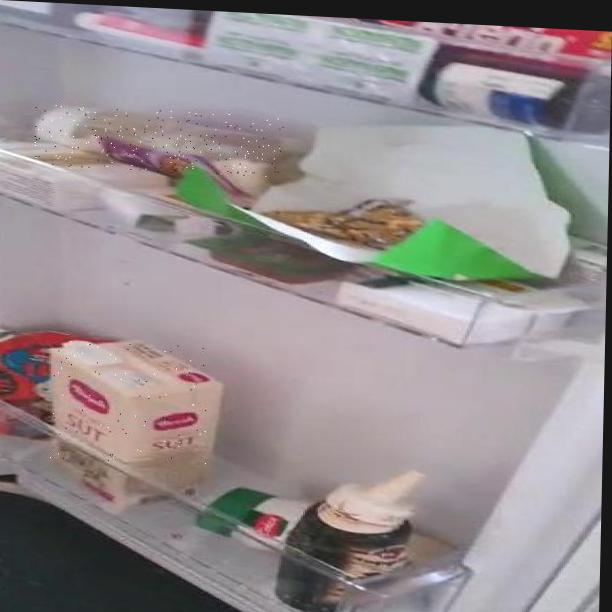milk: (49, 339, 211, 469)
sauce: (32, 104, 284, 178)
